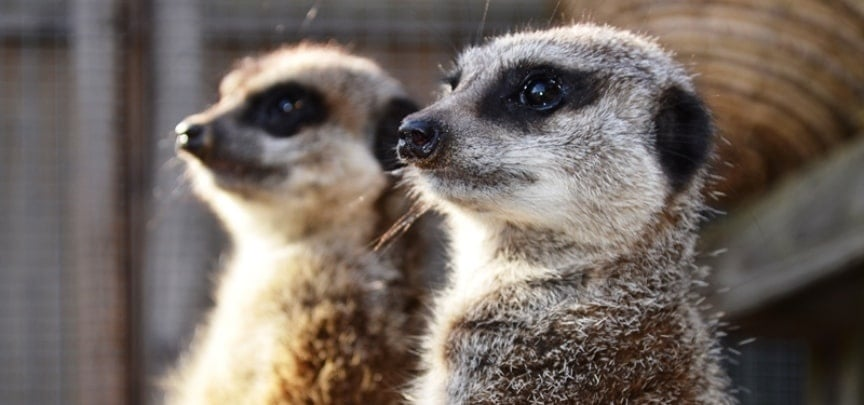meerkat: (384, 17, 738, 405)
